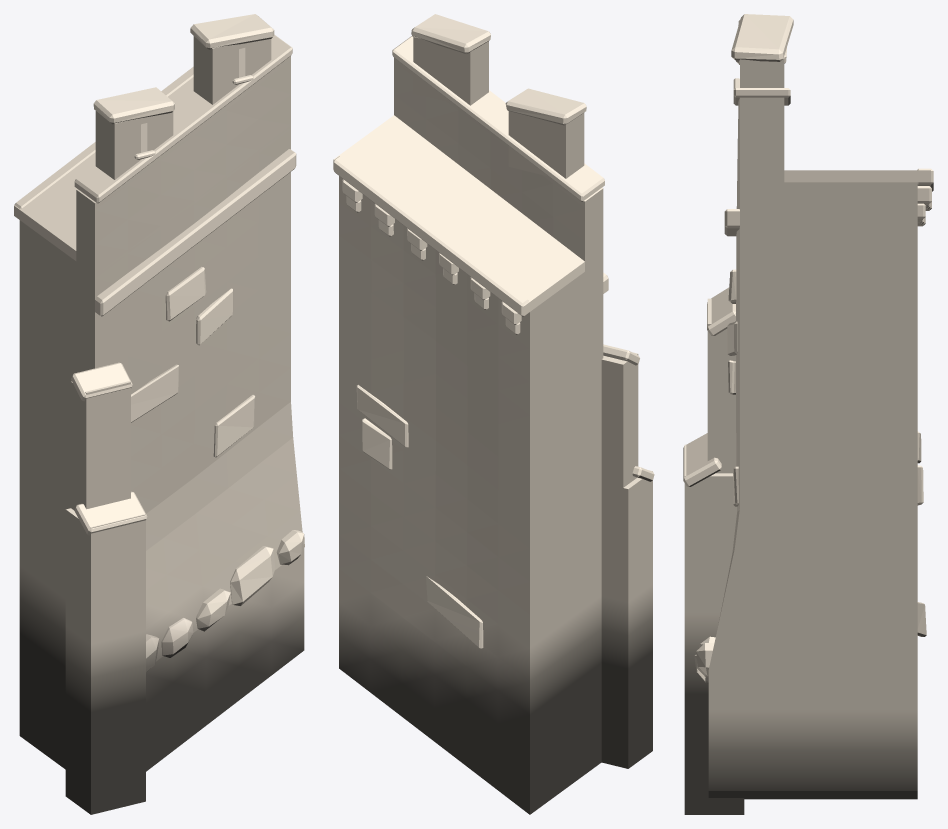
Rendered from SM_VK_TownWall_Step.fbx.
The picture shows the model from 3 angles, left to right: view 1: azimuth 30°, elevation 25°; view 2: azimuth 150°, elevation 25°; view 3: azimuth 270°, elevation 25°; orthographic projection. The views are drawn at different scales.
Parts seen in each view (by area): view 1: SM_VK_TownWall_Step.001; view 2: SM_VK_TownWall_Step.001; view 3: SM_VK_TownWall_Step.001.
Part boxes in pixels (x1=…): SM_VK_TownWall_Step.001: x1=14, y1=14, x2=304, y2=814; SM_VK_TownWall_Step.001: x1=333, y1=14, x2=654, y2=814; SM_VK_TownWall_Step.001: x1=683, y1=14, x2=933, y2=814.
Size of the model in its own units: 3.45 by 10.57 by 2.82.
